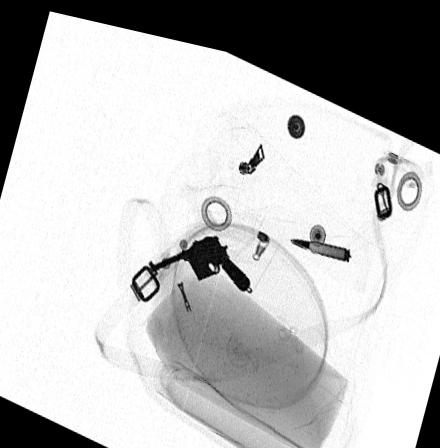Bullet: (289, 223, 351, 246)
Gun: (150, 222, 252, 280)
